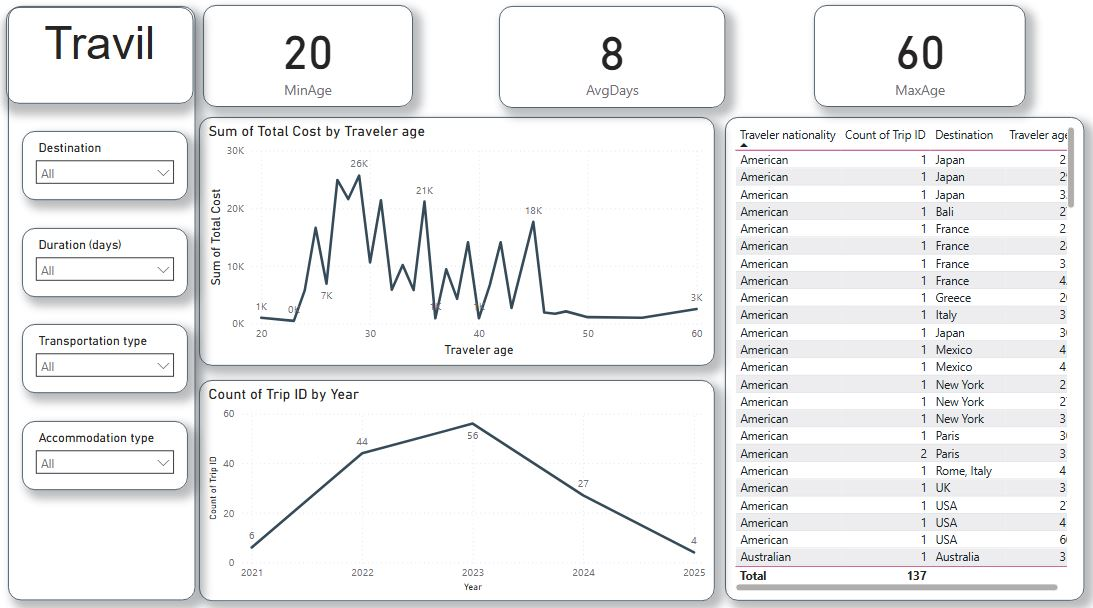

The dashboard page shown, as its layout file describes it:
{"tool":"powerbi","page":{"name":"Page 3","canvas":[1280,720],"ordinal":2},"visuals":[{"type":"tableEx","fields":{"Values":["Travel details dataset.Traveler nationality","CountNonNull(Travel details dataset.Trip ID)","Travel details dataset.Destination","Travel details dataset.Traveler age"]},"box":[848,144,416,560],"z":0},{"type":"shape","box":[19,15.5,217,688],"z":1000},{"type":"lineChart","fields":{"Category":["Travel details dataset.Traveler age"],"Y":["Sum(Travel details dataset.Total Cost)"]},"box":[240,144,597,288],"z":2000},{"type":"slicer","fields":{"Values":["Travel details dataset.Destination"]},"box":[35,159.5,192,80],"z":3000},{"type":"lineChart","fields":{"Category":["Travel details dataset.Start date.Variation.Date Hierarchy.Year","Travel details dataset.Start date.Variation.Date Hierarchy.Month"],"Y":["CountNonNull(Travel details dataset.Trip ID)"]},"box":[240,448,597,256],"z":4000},{"type":"slicer","fields":{"Values":["Travel details dataset.Accommodation type"]},"box":[35,495.5,192,80],"z":5000},{"type":"card","fields":{"Values":["Travel details dataset.AvgDays"]},"box":[587.3,14.6,262.2,118],"z":6000},{"type":"slicer","fields":{"Values":["Travel details dataset.Transportation type"]},"box":[35,383.5,192,80],"z":7000},{"type":"card","fields":{"Values":["Travel details dataset.MinAge"]},"box":[244,14.1,242.9,118.2],"z":8000},{"type":"slicer","fields":{"Values":["Travel details dataset.Duration (days)"]},"box":[35,271.5,192,80],"z":9000},{"type":"card","fields":{"Values":["Travel details dataset.MaxAge"]},"box":[951,14.1,245.5,118.2],"z":10000},{"type":"textbox","box":[16,16,217,112],"z":10001}]}

Visuals, with their boxes in screenshot pixels (x1, y1, x2, y2), scaled from the page's 1280x720 canvas onto the 1093x608 screenshot:
tableEx - Travel details dataset.Traveler nationality x CountNonNull(Travel details dataset.Trip ID): left=724, top=122, right=1079, bottom=594
shape: left=16, top=13, right=202, bottom=594
lineChart - Travel details dataset.Traveler age x Sum(Travel details dataset.Total Cost): left=205, top=122, right=715, bottom=365
slicer - Travel details dataset.Destination: left=30, top=135, right=194, bottom=202
lineChart - Travel details dataset.Start date.Variation.Date Hierarchy.Year x Travel details dataset.Start date.Variation.Date Hierarchy.Month: left=205, top=378, right=715, bottom=594
slicer - Travel details dataset.Accommodation type: left=30, top=418, right=194, bottom=486
card - Travel details dataset.AvgDays: left=501, top=12, right=725, bottom=112
slicer - Travel details dataset.Transportation type: left=30, top=324, right=194, bottom=391
card - Travel details dataset.MinAge: left=208, top=12, right=416, bottom=112
slicer - Travel details dataset.Duration (days): left=30, top=229, right=194, bottom=297
card - Travel details dataset.MaxAge: left=812, top=12, right=1022, bottom=112
textbox: left=14, top=14, right=199, bottom=108
